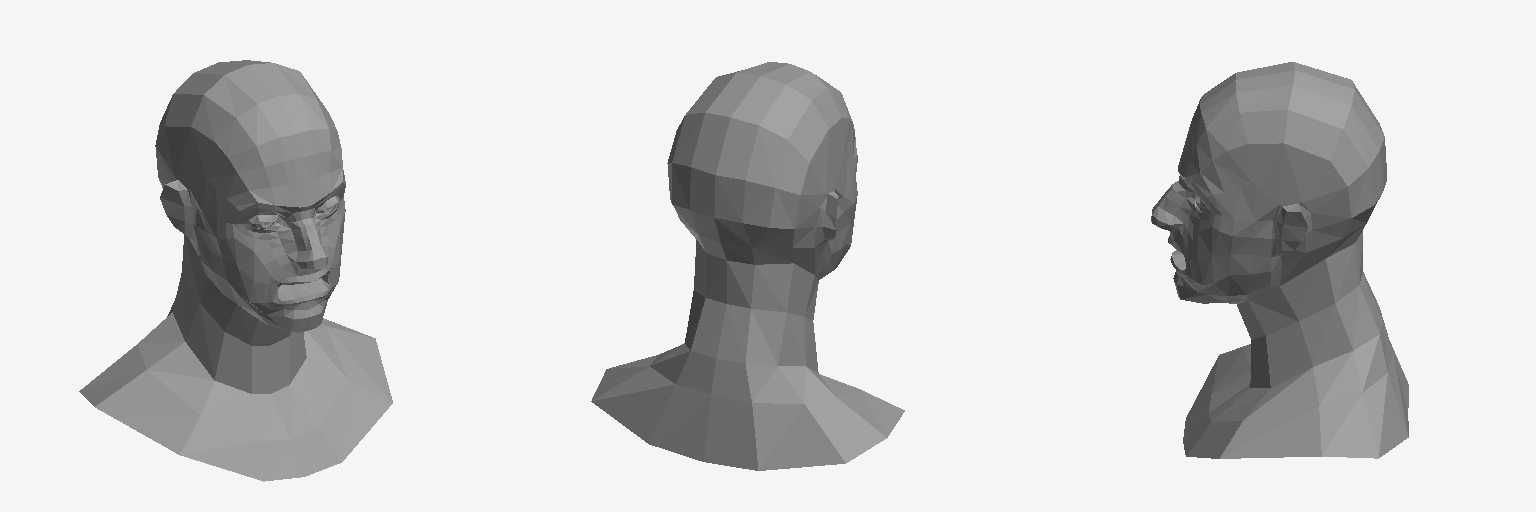
Rendered from mad.obj.
3 renders of one model, left to right at view 1: azimuth 30°, elevation 25°; view 2: azimuth 150°, elevation 25°; view 3: azimuth 270°, elevation 25°, orthographic.
Visible parts, largest first — view 1: polySurface26.002; view 2: polySurface26.002; view 3: polySurface26.002.
Part boxes in pixels (left/top/right/bottom): polySurface26.002: left=79, top=60, right=392, bottom=481; polySurface26.002: left=591, top=62, right=904, bottom=470; polySurface26.002: left=1151, top=62, right=1408, bottom=458.
Size of the model in its own units: 7.84 by 9.9 by 6.21.